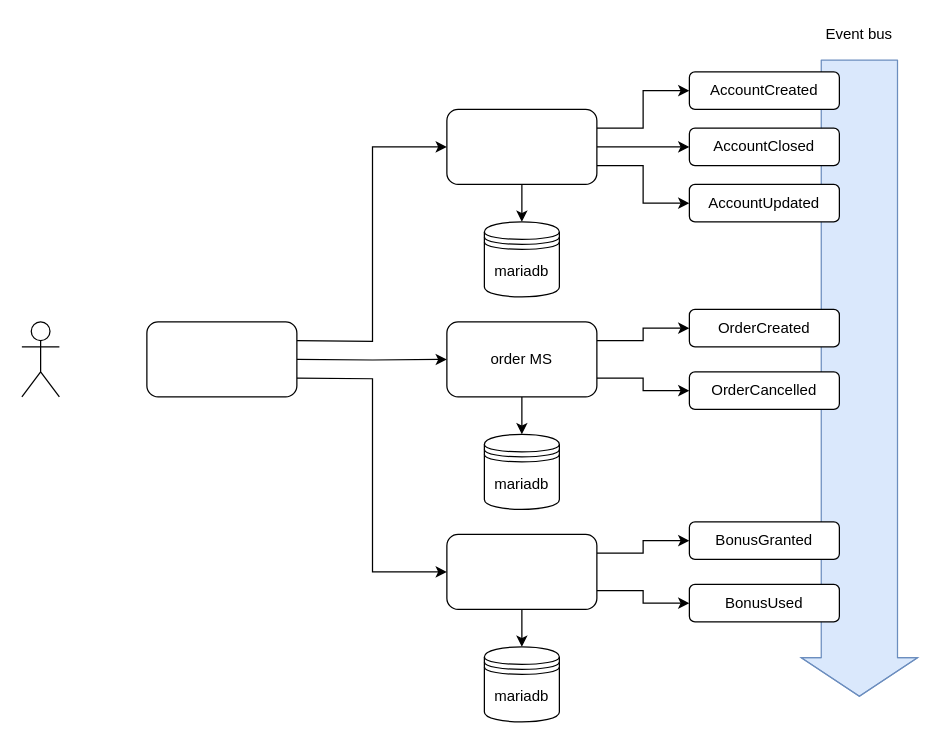
Image size: 940x744. Some labels were removed from this diagram. The centre of each missing label's shape, as x and y in pixels:
account MS: (521,146)
Actor: (40,359)
bonus MS: (521,571)
nginx gateway: (221,359)
